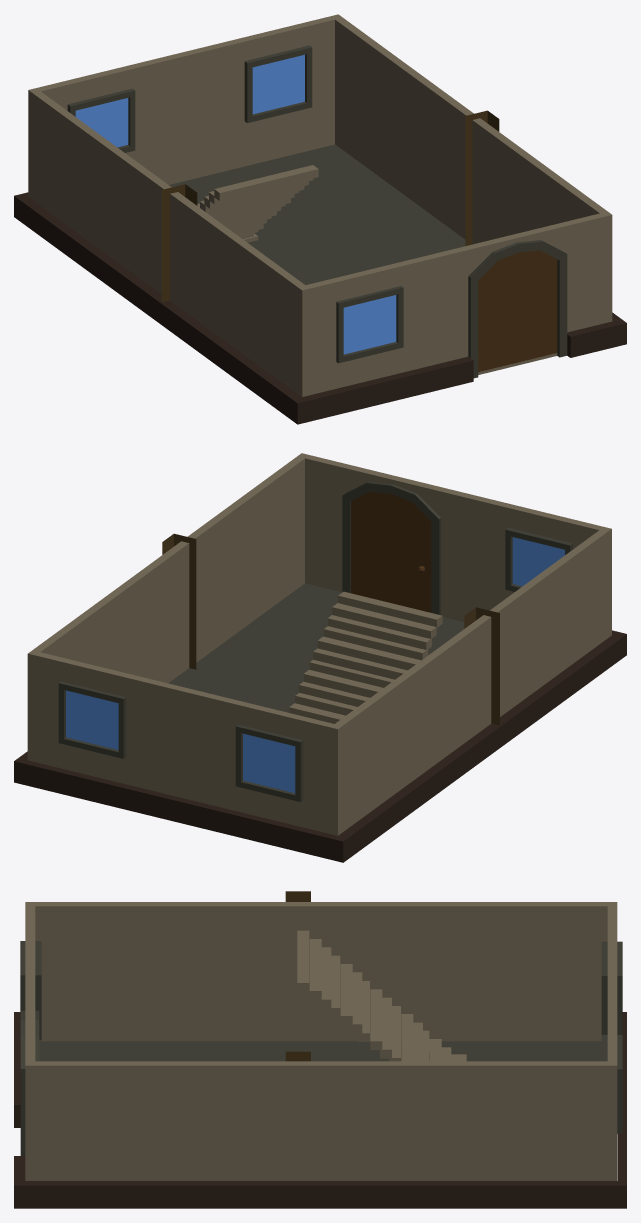
Rendered from CajaCasa 2.4 Interior 1.fbx.
3 renders of one model, top to bottom at view 1: azimuth 30°, elevation 25°; view 2: azimuth 150°, elevation 25°; view 3: azimuth 270°, elevation 25°, orthographic. The views are drawn at different scales.
Parts seen in each view (by area): view 1: Ventana 4.006; view 2: Ventana 4.006; view 3: Ventana 4.006.
Part boxes in pixels (bbox=[...]): Ventana 4.006: bbox=[14, 14, 626, 424]; Ventana 4.006: bbox=[14, 453, 626, 862]; Ventana 4.006: bbox=[14, 891, 626, 1208].
Bounding box in the file's own units: 723 × 281 × 1078.
